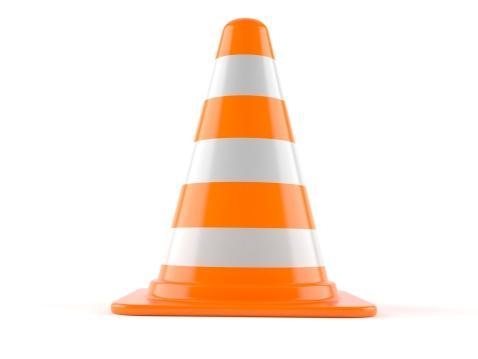Cone: (116, 18, 373, 317)
